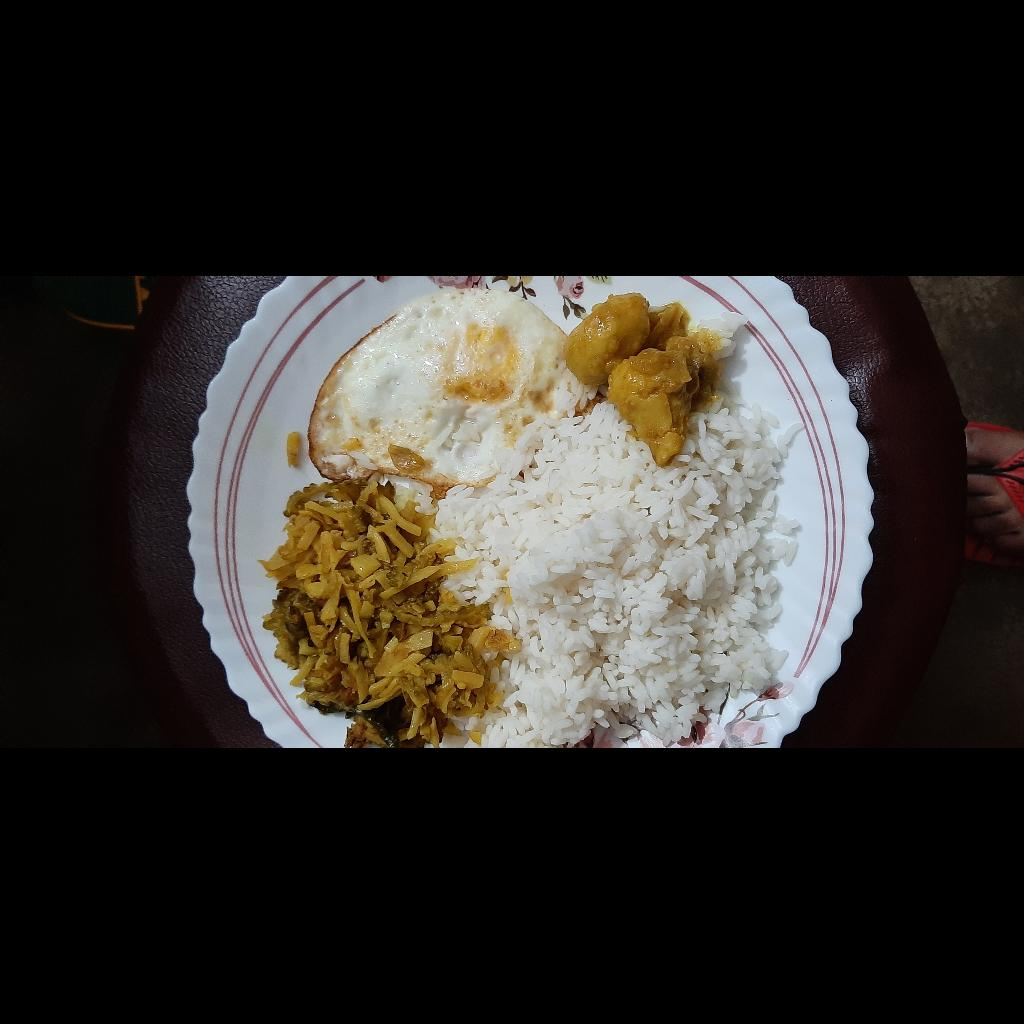egg: (259, 581, 466, 843)
korola-vaji: (0, 579, 62, 705), (80, 541, 159, 587)
potato: (10, 535, 258, 794), (285, 838, 459, 994)
rice: (0, 667, 428, 1024)
